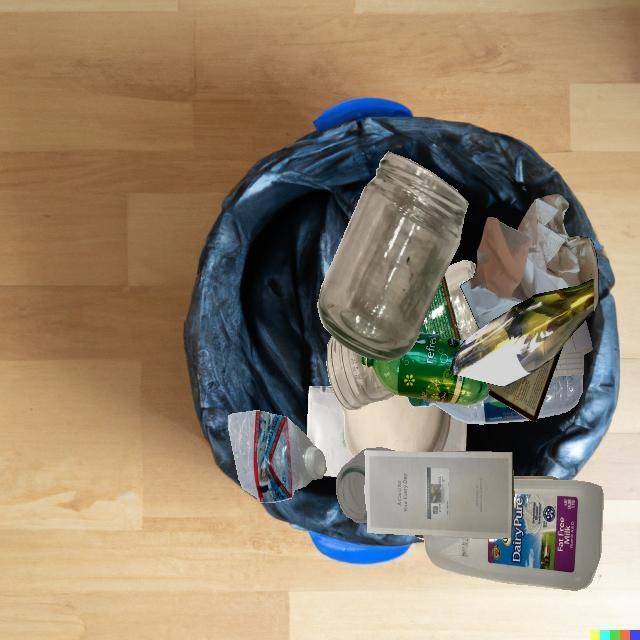cardboard: (487, 347, 563, 422)
glass: (317, 151, 469, 361), (449, 278, 594, 386), (327, 335, 395, 409), (420, 260, 479, 341), (336, 447, 396, 523), (513, 476, 559, 480)
paper: (460, 194, 599, 329), (364, 449, 514, 539), (339, 395, 451, 458), (307, 386, 354, 479), (552, 320, 592, 376)
plastic: (413, 479, 603, 590), (361, 332, 489, 406), (228, 410, 326, 503), (408, 394, 529, 424), (537, 374, 583, 419)
